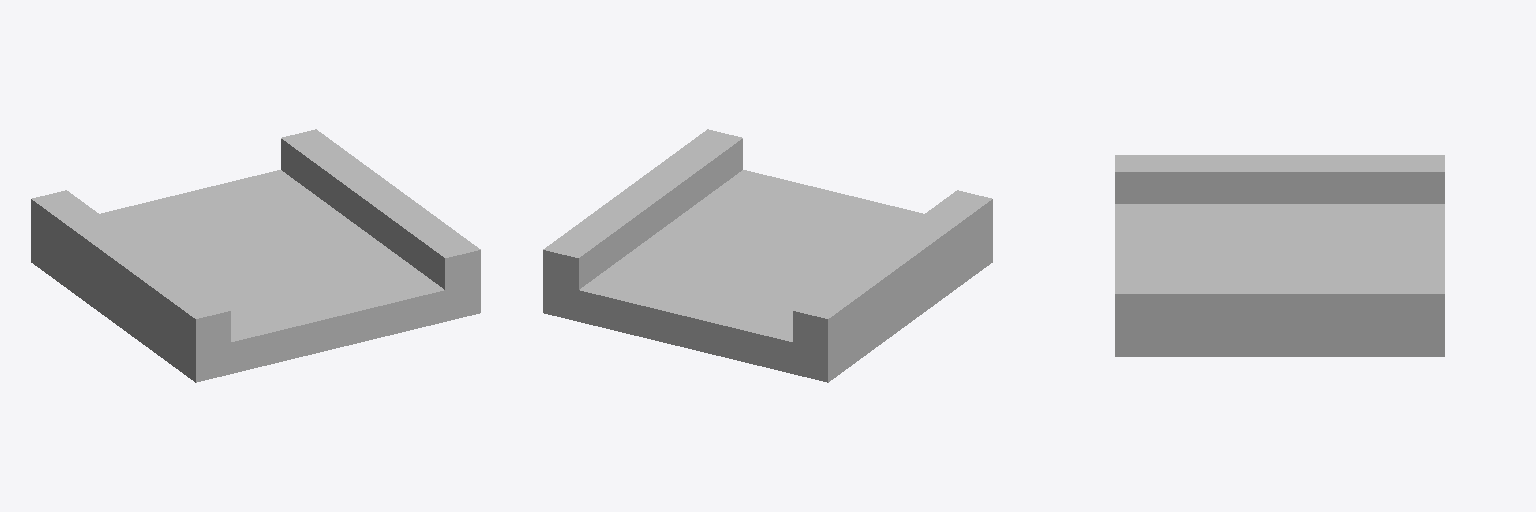
File: roof-flat-border-straight.obj
3 renders of one model, left to right at view 1: azimuth 30°, elevation 25°; view 2: azimuth 150°, elevation 25°; view 3: azimuth 270°, elevation 25°, orthographic.
Parts seen in each view (by area): view 1: roof-flat-border-straight; view 2: roof-flat-border-straight; view 3: roof-flat-border-straight.
Boxes of the visible parts, x1,y1,x2,y2 form: roof-flat-border-straight: [31, 129, 480, 382]; roof-flat-border-straight: [543, 129, 992, 382]; roof-flat-border-straight: [1115, 155, 1444, 356].
Size of the model in its own units: 1 by 0.2125 by 1.